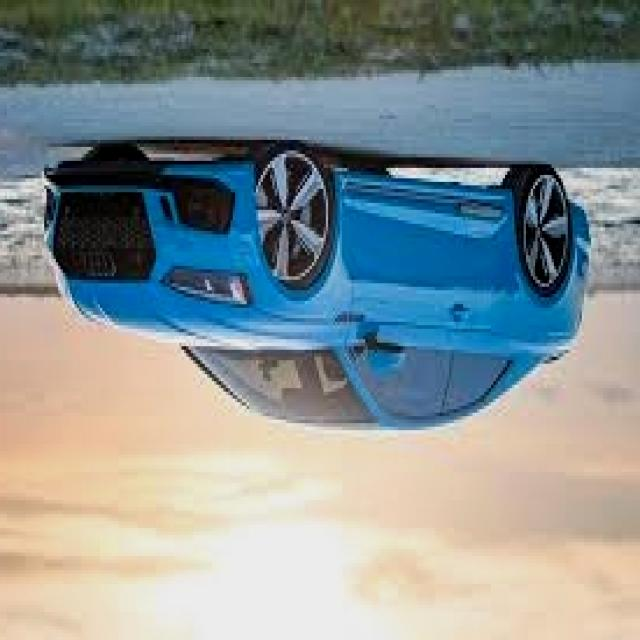blue: (42, 148, 586, 442)
